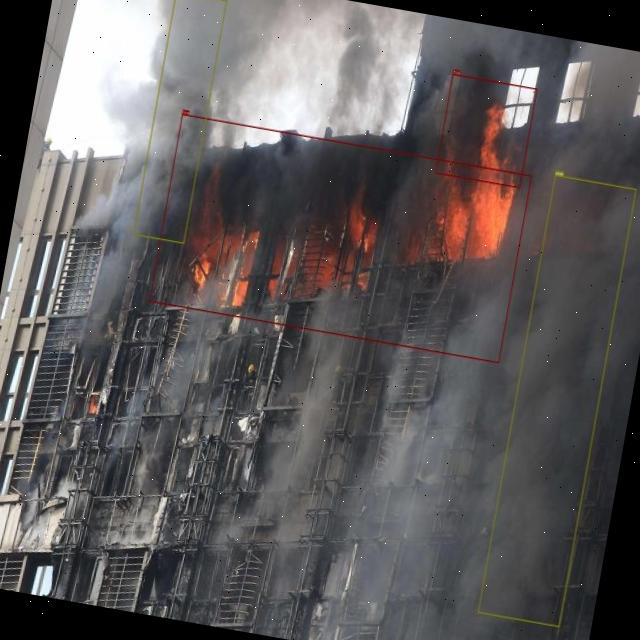fire: (148, 114, 532, 362), (436, 74, 538, 188)
smoke: (478, 175, 636, 627), (133, 0, 226, 243)
